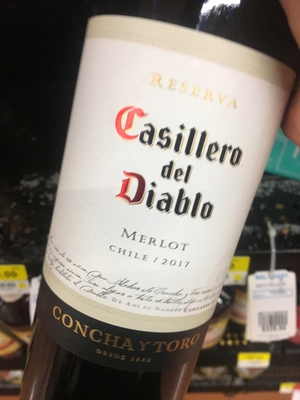casillero del diablo merlot: (43, 9, 296, 400)
